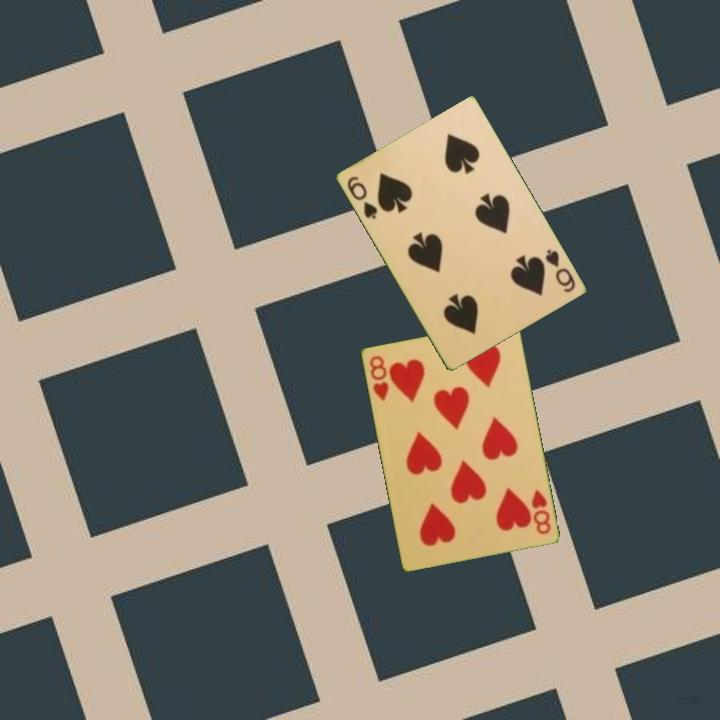6s: (343, 172, 380, 222), (541, 245, 578, 295)
8h: (366, 352, 391, 403), (528, 486, 553, 537)
